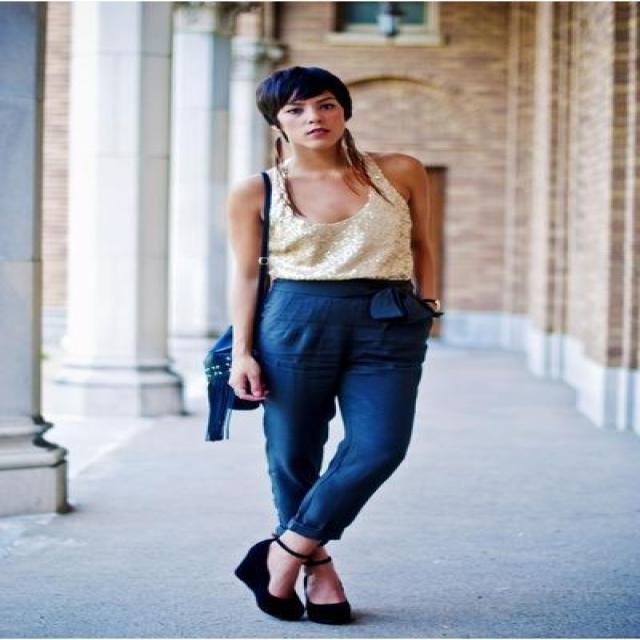bag: (205, 328, 248, 440)
pants: (250, 276, 440, 552)
shirt: (268, 192, 418, 293)
shoe: (235, 536, 363, 625)
